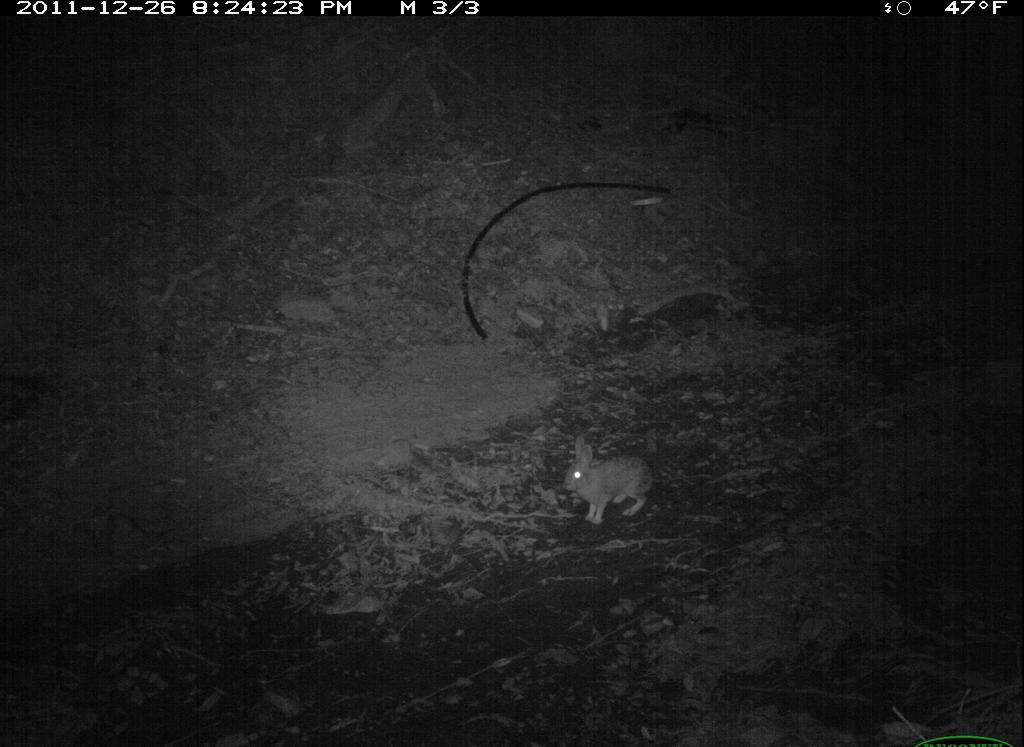rabbit: (553, 427, 662, 537)
